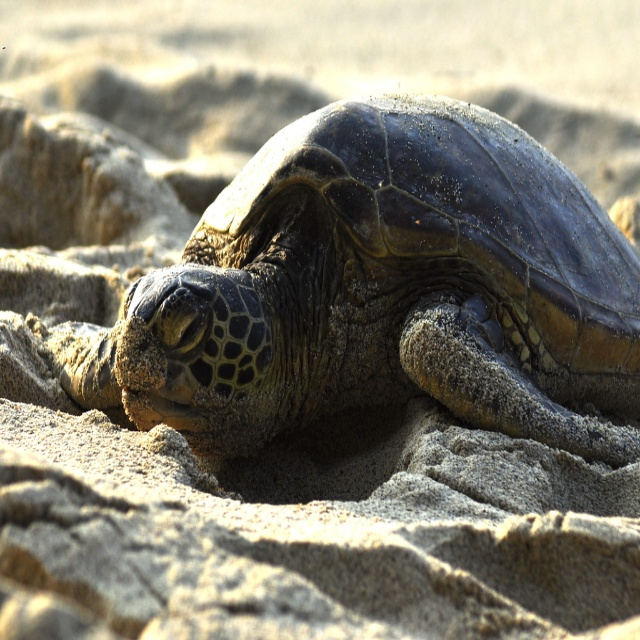Sea turtle: (24, 90, 640, 458)
